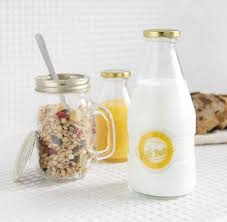milk: (129, 25, 202, 201)
